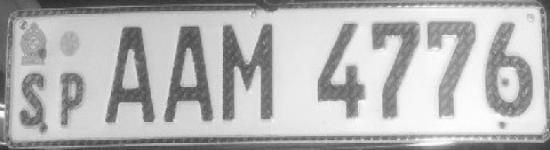4: (313, 14, 369, 124)
6: (480, 12, 538, 126)
7: (422, 12, 480, 126), (371, 14, 422, 123)
A: (98, 21, 161, 128), (159, 17, 217, 132)
M: (218, 18, 278, 131)
P: (55, 66, 87, 132)
S: (14, 66, 53, 133)
